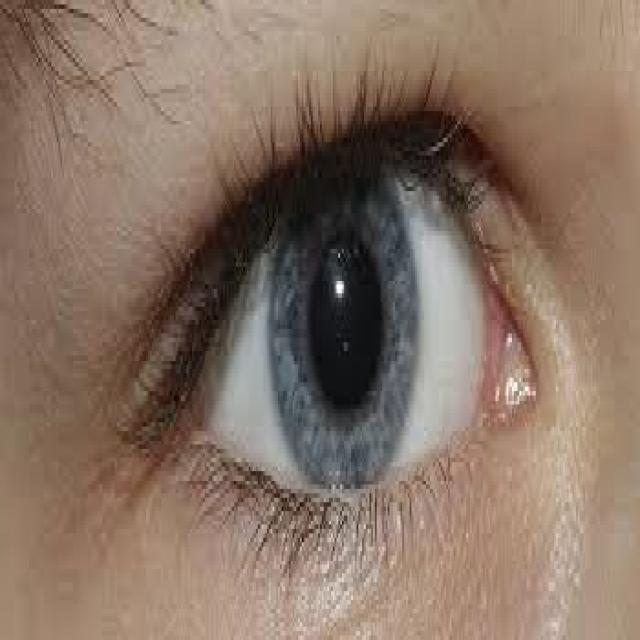Eyes-iris: (259, 134, 426, 511)
